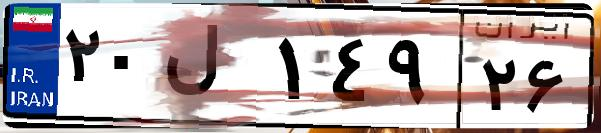0: (110, 28, 158, 98)
1: (270, 28, 330, 110)
2: (57, 26, 110, 100), (475, 38, 525, 113)
4: (330, 28, 385, 110)
6: (525, 38, 570, 115)
9: (385, 28, 445, 110)
ل: (158, 20, 270, 120)
